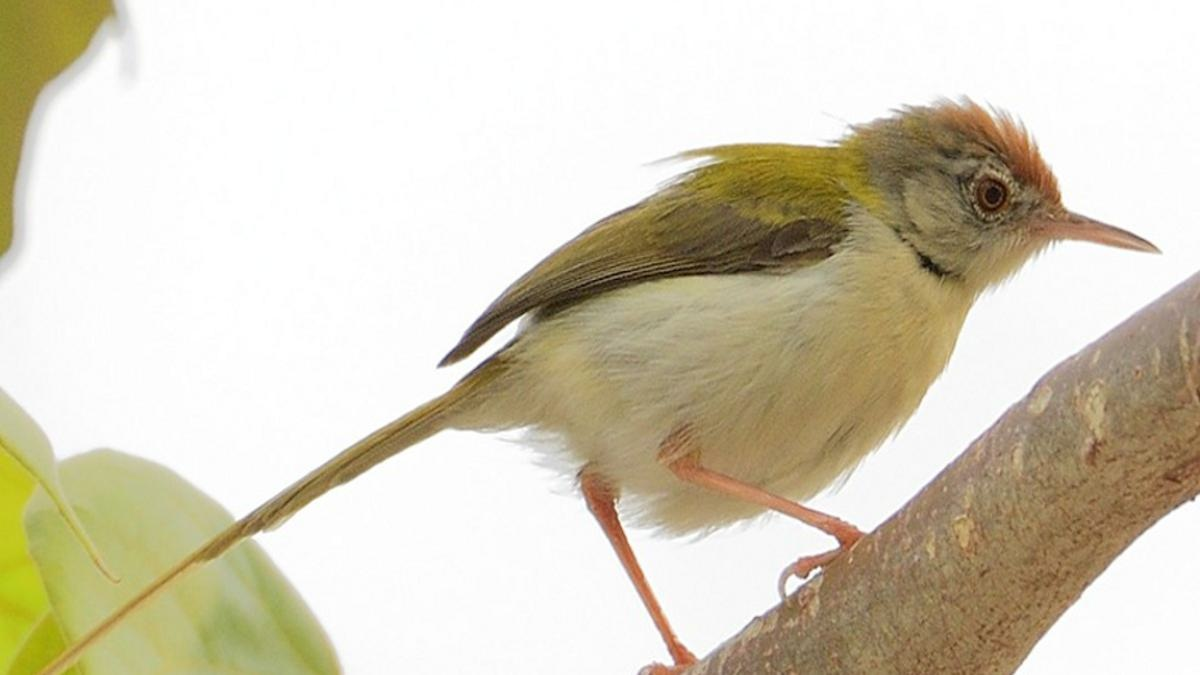tailorbird: (196, 80, 1134, 617)
